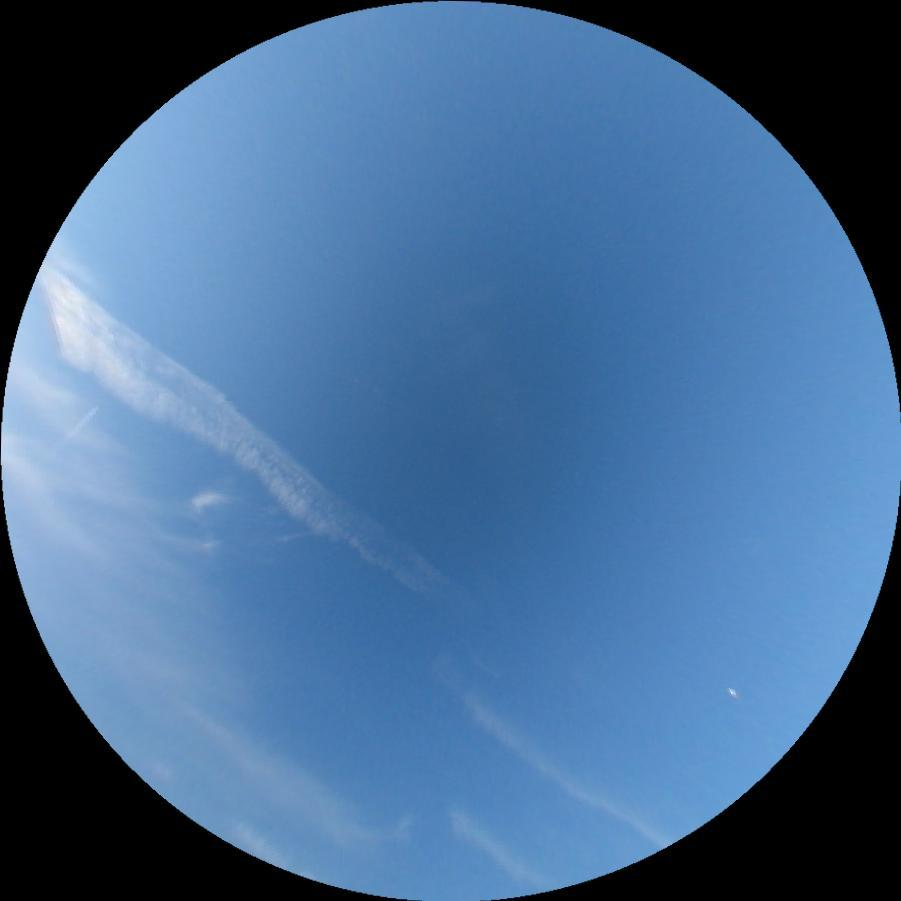contrail veryold: (3, 262, 467, 624)
contrail young: (62, 403, 103, 441)
